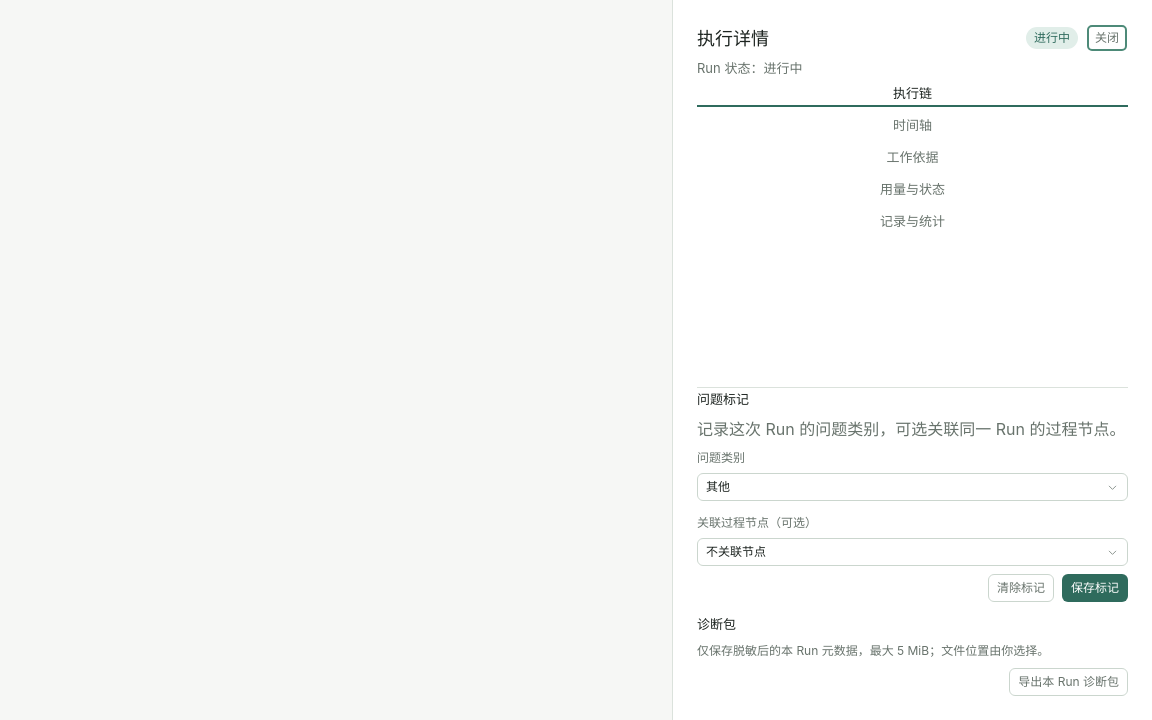
RunExecutionDetails › clears an existing issue mark with its expected revision and one local confirmation
This screenshot has width=1152, height=720.
(page scrolled)
Click the button "清除标记" at [1021, 588], box top-left (988, 574), bottom-right (1054, 602)
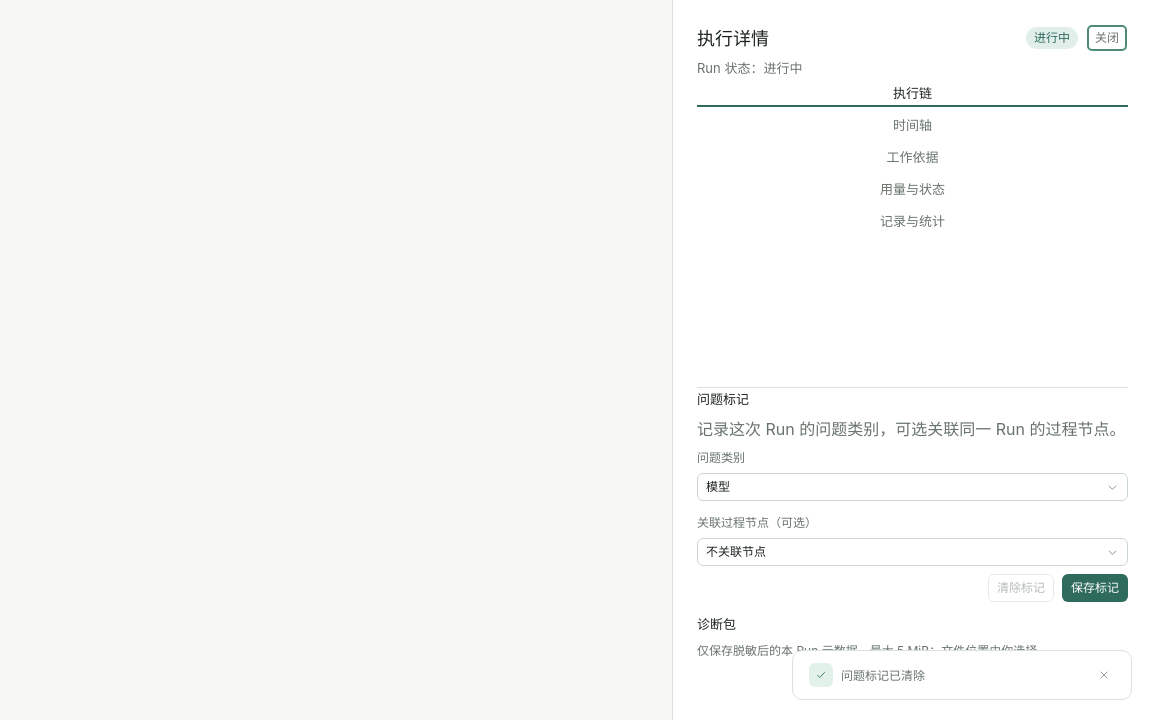
Check: the message "问题标记已清除" is shown, box top-left (792, 650), bottom-right (1132, 700)
Check: the message reads "问题标记已清除", box top-left (841, 668), bottom-right (925, 683)
